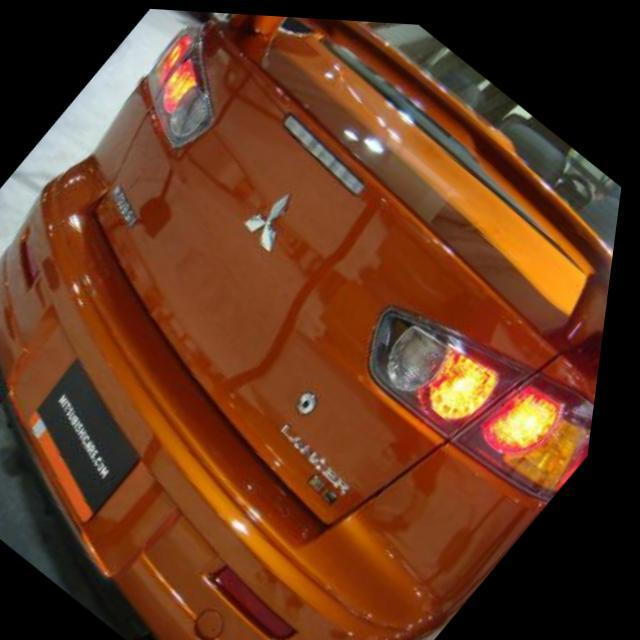license_plate: (0, 352, 184, 528)
